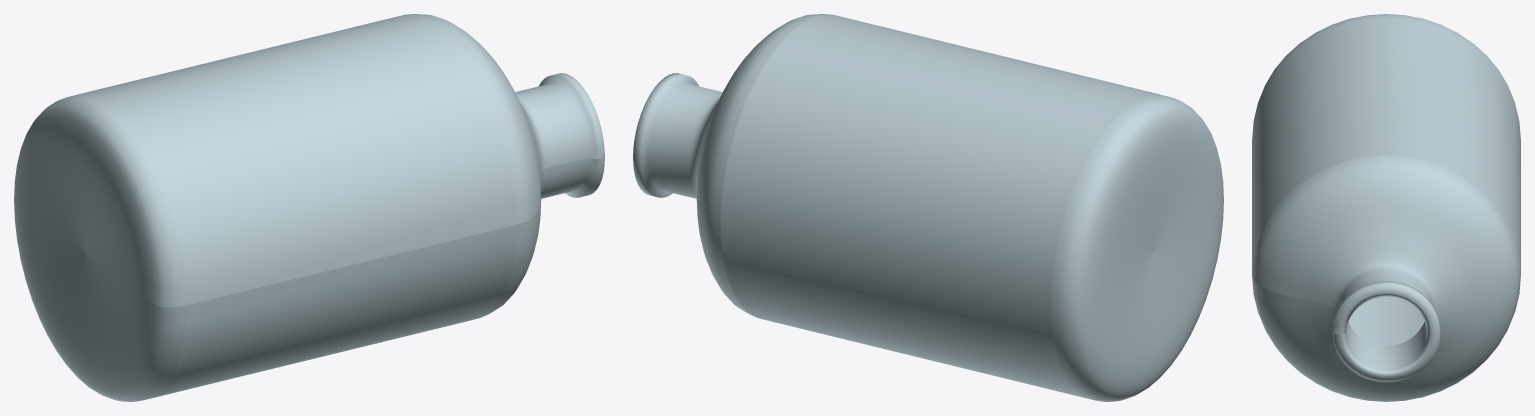
The model's file is bottle_glass.glb.
3 renders of one model, left to right at view 1: azimuth 30°, elevation 25°; view 2: azimuth 150°, elevation 25°; view 3: azimuth 270°, elevation 25°, orthographic. The views are drawn at different scales.
Visible parts, largest first — view 1: BottleGlass; view 2: BottleGlass; view 3: BottleGlass.
Part boxes in pixels (box(x1,y1,x2,y2)): BottleGlass: box(14, 14, 604, 401); BottleGlass: box(633, 14, 1223, 401); BottleGlass: box(1252, 14, 1520, 401).
Size of the model in its own units: 8.1 by 4.44 by 4.44.
